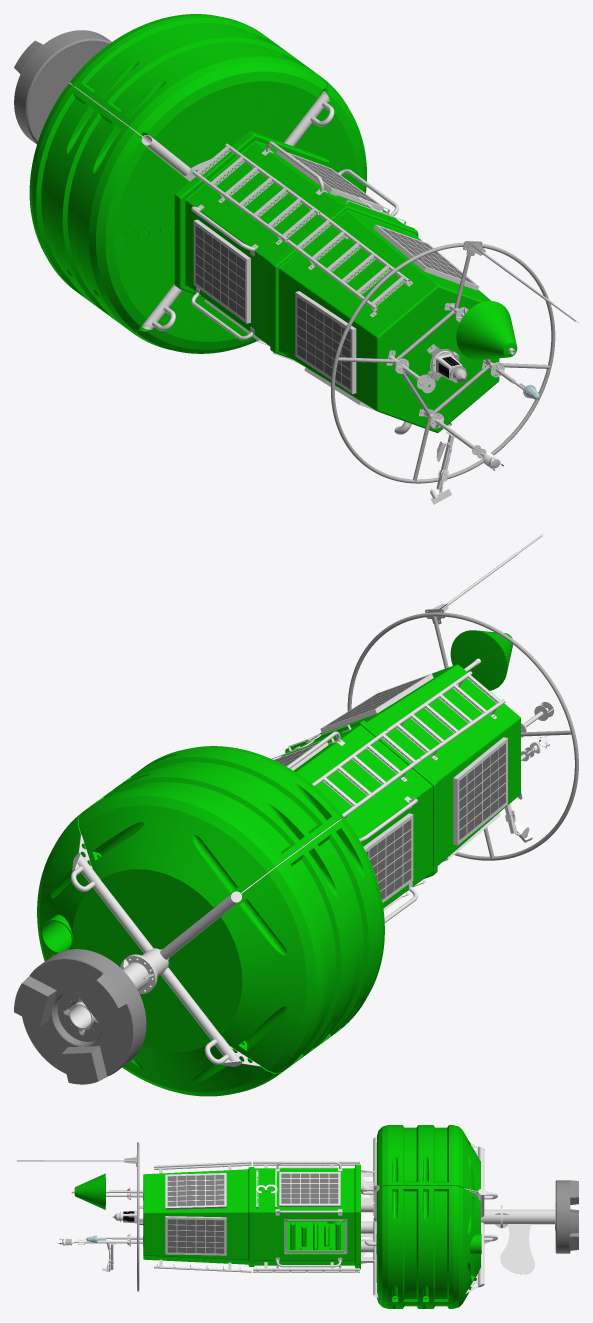
3 views of the same model, one above another, from view 1: azimuth 30°, elevation 25°; view 2: azimuth 150°, elevation 25°; view 3: azimuth 270°, elevation 25° (orthographic). The views are drawn at different scales.
Parts seen in each view (by area): view 1: MANIFOLD_SOLID_BREP_66578, MANIFOLD_SOLID_BREP_66576, ADMI164_223, ADMI1648D6F9C03_141, ADMI1648D6F9C03I_91, MANIFOLD_SOLID_BREP_66579, MANIFOLD_SOLID_BREP_66577, ADMI1648D6F9C03I_12, MANIFOLD_SOLID_BREP_66581, ADMI_259_2, ADMI_251_2, ADMI_259_1 (+9 smaller); view 2: MANIFOLD_SOLID_BREP_66578, MANIFOLD_SOLID_BREP_66576, ADMI1648D6F9C03I_91, ADMI164_223, ADMI1648D6F9C03_141, MANIFOLD_SOLID_BREP_66579, MANIFOLD_SOLID_BREP_66577, ADMI_259_2, MANIFOLD_SOLID_BREP_66581, ADMI1648D6F9C03I_12, 3_X2_7C736D6E4F539AA867B6-66261, ADMI_251_2 (+6 smaller); view 3: MANIFOLD_SOLID_BREP_66577, ADMI1648D6F9C03_141, MANIFOLD_SOLID_BREP_66576, ADMI164_223, MANIFOLD_SOLID_BREP_66451_2, MANIFOLD_SOLID_BREP_66337_2, MANIFOLD_SOLID_BREP_66271_2, ADMI1648D6F9C03I_91, ADMI1648D6F9C03I_93, _3, ADMI1648D6F9C03I_9, MANIFOLD_SOLID_BREP_66581 (+15 smaller).
Boxes of the visible parts, bbox=[...] form: MANIFOLD_SOLID_BREP_66578: bbox=[29, 83, 189, 331]; MANIFOLD_SOLID_BREP_66576: bbox=[70, 14, 326, 171]; ADMI164_223: bbox=[270, 202, 499, 432]; ADMI1648D6F9C03_141: bbox=[174, 131, 402, 346]; ADMI1648D6F9C03I_91: bbox=[14, 30, 111, 144]; MANIFOLD_SOLID_BREP_66579: bbox=[80, 290, 256, 353]; MANIFOLD_SOLID_BREP_66577: bbox=[294, 79, 366, 193]; ADMI1648D6F9C03I_12: bbox=[331, 242, 555, 483]; MANIFOLD_SOLID_BREP_66581: bbox=[456, 301, 517, 360]; ADMI_259_2: bbox=[297, 297, 350, 389]; ADMI_251_2: bbox=[195, 225, 244, 318]; ADMI_259_1: bbox=[295, 291, 356, 394]; MANIFOLD_SOLID_BREP_66578: bbox=[168, 817, 384, 1073]; MANIFOLD_SOLID_BREP_66576: bbox=[78, 746, 343, 949]; ADMI1648D6F9C03I_91: bbox=[14, 949, 146, 1084]; ADMI164_223: bbox=[285, 664, 520, 878]; ADMI1648D6F9C03_141: bbox=[281, 724, 432, 908]; MANIFOLD_SOLID_BREP_66579: bbox=[122, 975, 333, 1096]; MANIFOLD_SOLID_BREP_66577: bbox=[37, 813, 143, 966]; ADMI_259_2: bbox=[459, 743, 505, 839]; MANIFOLD_SOLID_BREP_66581: bbox=[450, 630, 512, 690]; ADMI1648D6F9C03I_12: bbox=[347, 612, 578, 860]; 3_X2_7C736D6E4F539AA867B6-66261: bbox=[78, 854, 240, 1061]; ADMI_251_2: bbox=[366, 819, 411, 899]; MANIFOLD_SOLID_BREP_66577: bbox=[376, 1186, 481, 1303]; ADMI1648D6F9C03_141: bbox=[254, 1164, 360, 1269]; MANIFOLD_SOLID_BREP_66576: bbox=[376, 1125, 480, 1197]; ADMI164_223: bbox=[143, 1167, 254, 1266]; MANIFOLD_SOLID_BREP_66451_2: bbox=[167, 1219, 224, 1253]; MANIFOLD_SOLID_BREP_66337_2: bbox=[281, 1173, 338, 1203]; MANIFOLD_SOLID_BREP_66271_2: bbox=[167, 1175, 224, 1206]; ADMI1648D6F9C03I_91: bbox=[555, 1180, 578, 1253]; ADMI1648D6F9C03I_93: bbox=[500, 1224, 534, 1274]; _3: bbox=[481, 1209, 554, 1224]; ADMI1648D6F9C03I_9: bbox=[285, 1220, 345, 1252]; MANIFOLD_SOLID_BREP_66581: bbox=[74, 1173, 105, 1209].
Bounding box in the file's own units: 30 × 30 × 92.25.
